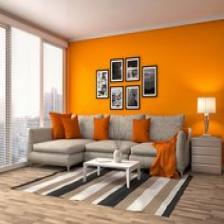orange: (68, 20, 224, 141), (151, 134, 179, 178)
